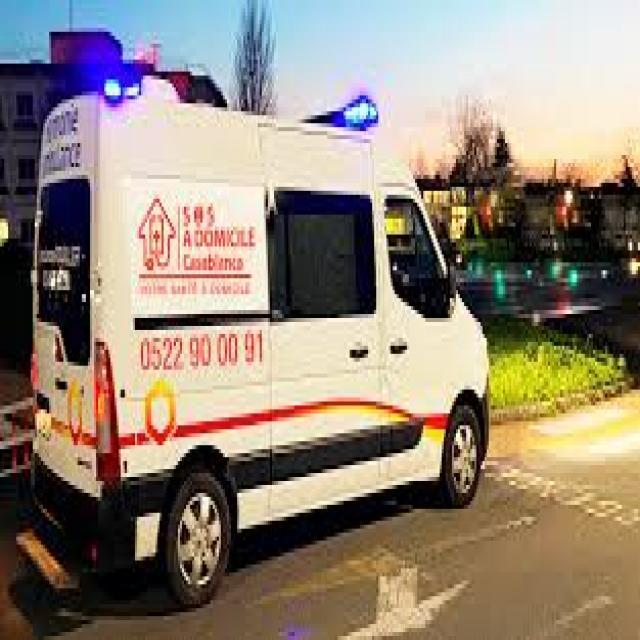ambulance: (24, 42, 496, 616)
